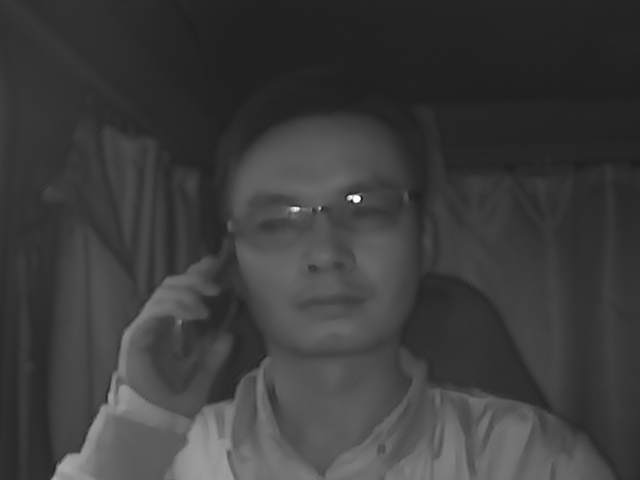hand: (117, 250, 237, 401)
